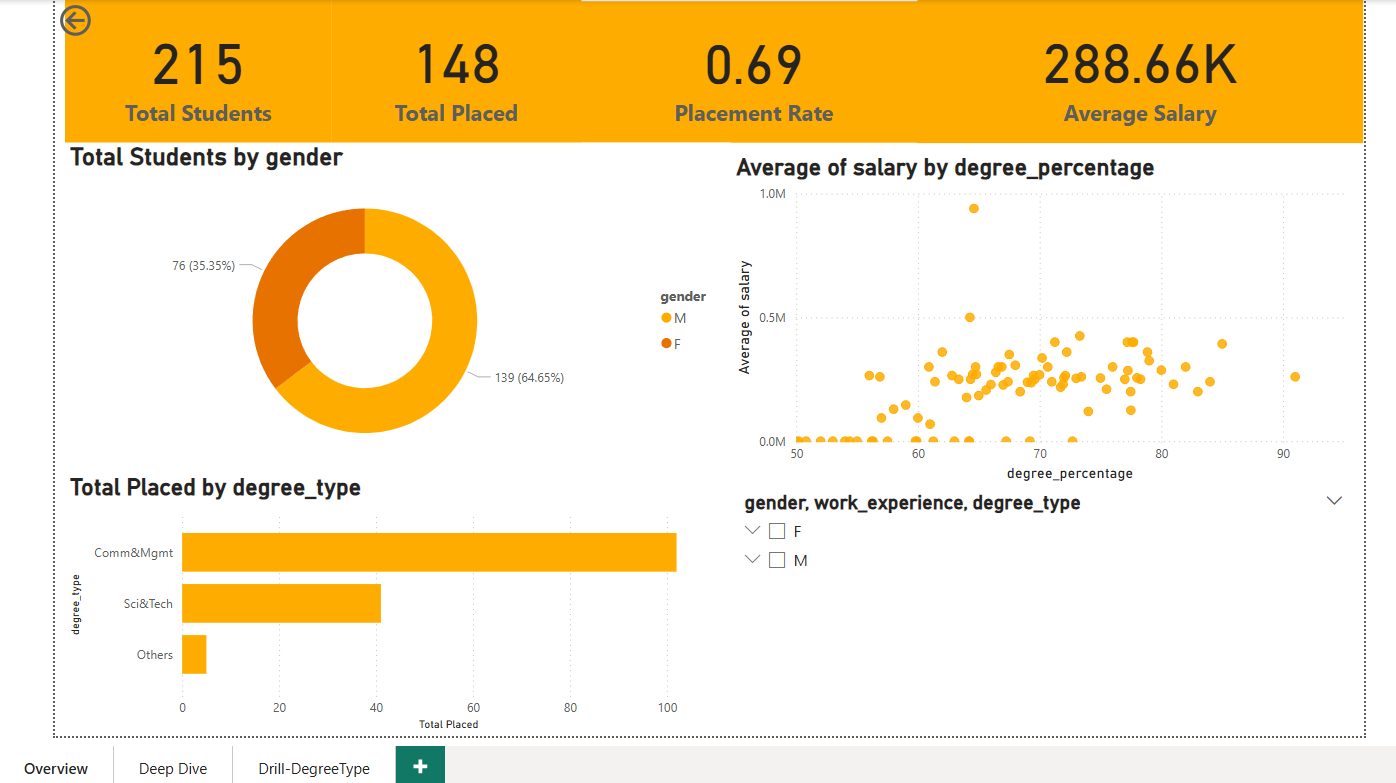

The page's visual inventory and layout, read from the dashboard file:
{"tool":"powerbi","page":{"name":"Overview","canvas":[1280,720],"ordinal":0},"visuals":[{"type":"card","fields":{"Values":["Placement_Data_Full_Class.Total Students"]},"box":[10,0,260.8,139.7],"z":0},{"type":"card","fields":{"Values":["Placement_Data_Full_Class.Total Placed"]},"box":[270.8,0,245.2,139.7],"z":1000},{"type":"card","fields":{"Values":["Placement_Data_Full_Class.Placement Rate"]},"box":[470.4,1.4,426.2,138.3],"z":2000},{"type":"card","fields":{"Values":["Placement_Data_Full_Class.Average Salary"]},"box":[843.8,0,436.2,139.7],"z":3000},{"type":"donutChart","fields":{"Y":["Placement_Data_Full_Class.Total Students"],"Category":["Placement_Data_Full_Class.gender"]},"box":[10,139.7,651.4,322.1],"z":4000},{"type":"barChart","fields":{"Category":["Placement_Data_Full_Class.degree_type"],"Y":["Placement_Data_Full_Class.Total Placed"]},"box":[10,461.8,651.4,258],"z":5000},{"type":"scatterChart","fields":{"X":["Placement_Data_Full_Class.degree_percentage"],"Y":["Avg(Placement_Data_Full_Class.salary)"]},"box":[661.4,149.7,611.5,326.4],"z":6000},{"type":"slicer","fields":{"Values":["Placement_Data_Full_Class.gender","Placement_Data_Full_Class.work_experience","Placement_Data_Full_Class.degree_type"]},"box":[661,476,611,244],"z":7000},{"type":"actionButton","box":[0,0,100,40],"z":7001}]}

Visuals, with their boxes on the page's 1280x720 design canvas (x1, y1, x2, y2). These are canvas units, not pixel positions in the 1396x783 screenshot, which may show the page scaled, cropped or inside an application window:
card - Placement_Data_Full_Class.Total Students: 10/0/271/140
card - Placement_Data_Full_Class.Total Placed: 271/0/516/140
card - Placement_Data_Full_Class.Placement Rate: 470/1/897/140
card - Placement_Data_Full_Class.Average Salary: 844/0/1280/140
donutChart - Placement_Data_Full_Class.Total Students x Placement_Data_Full_Class.gender: 10/140/661/462
barChart - Placement_Data_Full_Class.degree_type x Placement_Data_Full_Class.Total Placed: 10/462/661/720
scatterChart - Placement_Data_Full_Class.degree_percentage x Avg(Placement_Data_Full_Class.salary): 661/150/1273/476
slicer - Placement_Data_Full_Class.gender x Placement_Data_Full_Class.work_experience: 661/476/1272/720
actionButton: 0/0/100/40
